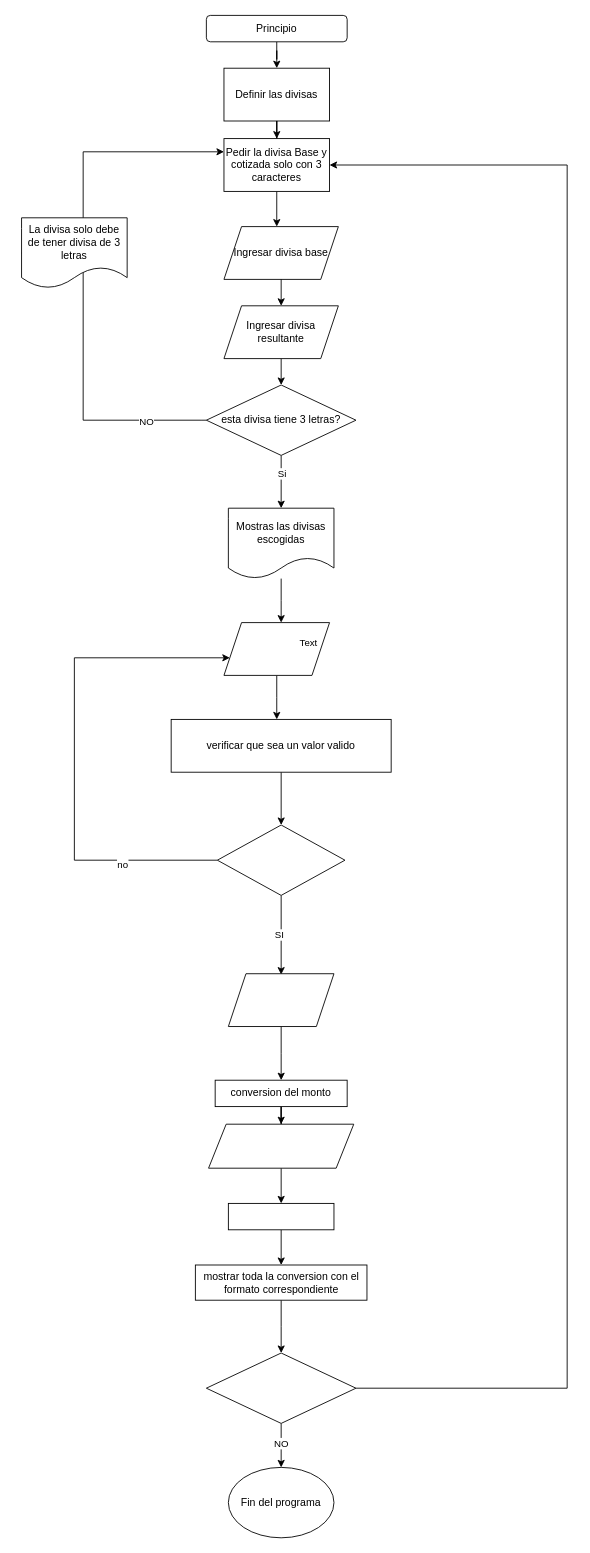
The diagram is 590 pixels wide and 1553 high, and some of its shapes have lost their labels. The shapes that lost their labels are listed below. From the top down, each one's box as (x1, y1, x2, y2) in pixels, then its label:
(223, 622, 330, 675): Ingresar tasa de cambio
(216, 824, 345, 895): la tasa es valida?
(227, 973, 334, 1027): Ingresar mo nto de divisa base
(208, 1123, 354, 1168): Ingrese datos del timestamp
(227, 1203, 334, 1230): Hacer el timestamp
(205, 1352, 356, 1423): desea realizar otra conversion
